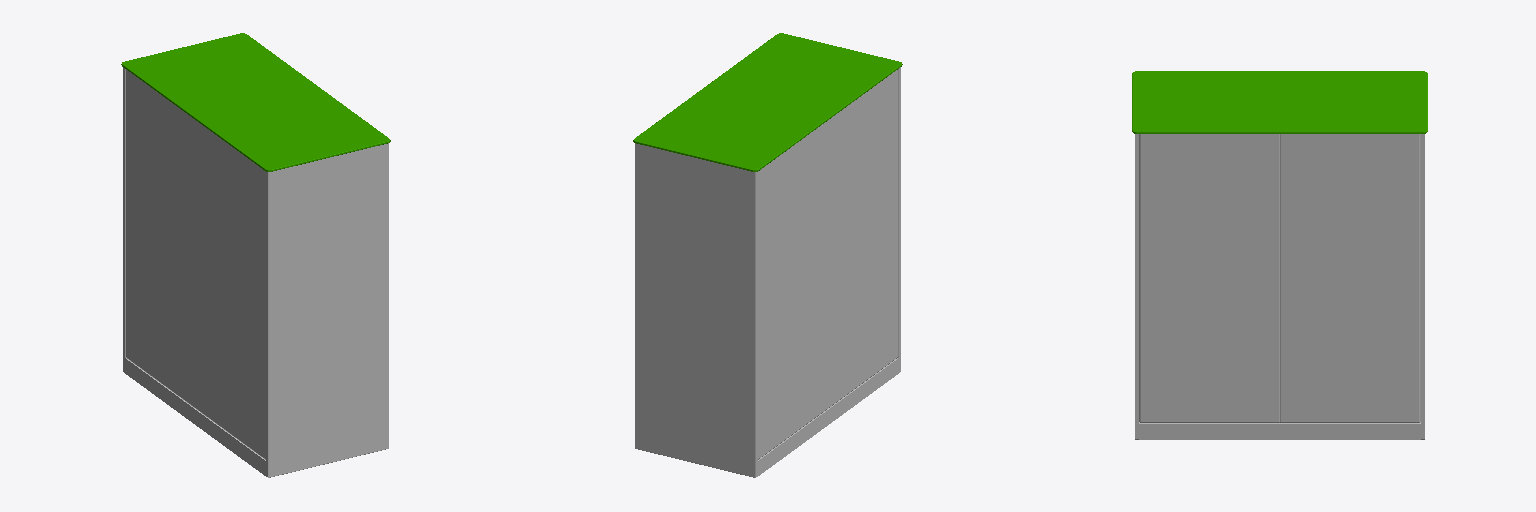
File: TNK-19.obj
3 renders of one model, left to right at view 1: azimuth 30°, elevation 25°; view 2: azimuth 150°, elevation 25°; view 3: azimuth 270°, elevation 25°, orthographic.
Parts seen in each view (by area): view 1: 3, 4, 5, 1; view 2: 3, 4, 5, 1; view 3: 2, 5, 1, 4.
Part boxes in pixels (left/top/right/bottom): 3: left=126, top=70, right=265, bottom=459; 4: left=123, top=67, right=388, bottom=477; 5: left=121, top=33, right=390, bottom=171; 1: left=125, top=358, right=265, bottom=475; 3: left=758, top=70, right=897, bottom=459; 4: left=635, top=67, right=900, bottom=477; 5: left=633, top=33, right=902, bottom=171; 1: left=758, top=358, right=898, bottom=475; 2: left=1139, top=134, right=1420, bottom=422; 5: left=1132, top=71, right=1427, bottom=133; 1: left=1139, top=422, right=1420, bottom=439; 4: left=1135, top=134, right=1424, bottom=439.
Size of the model in its own units: 5900 by 13950 by 12100.